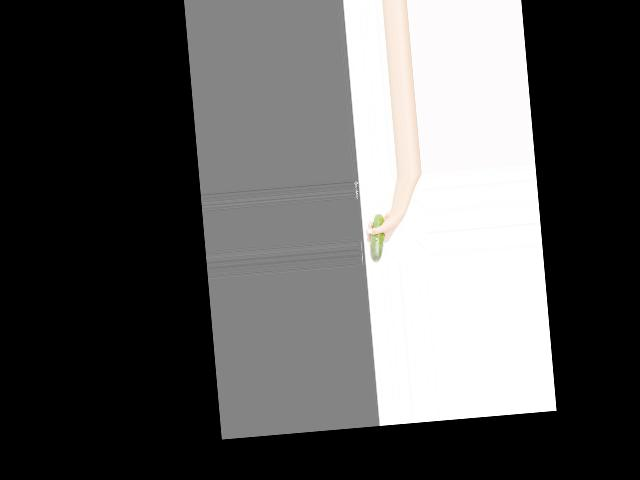cucumber: (366, 214, 387, 263)
